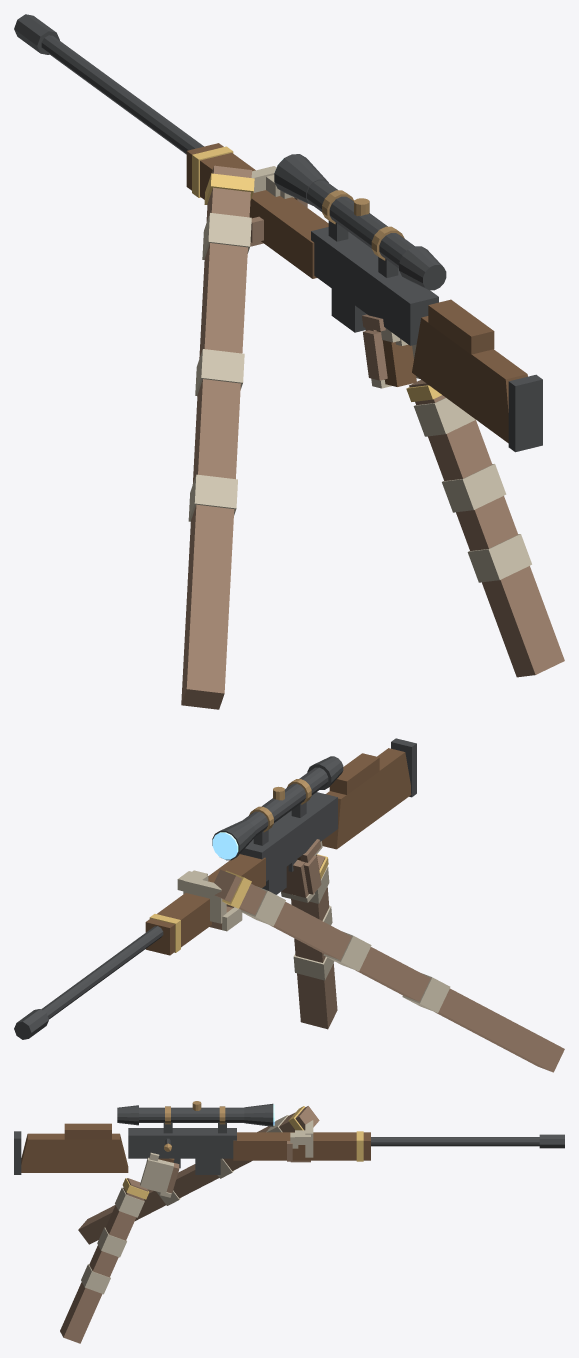
Rendered from sniper.glb.
3 renders of one model, top to bottom at view 1: azimuth 30°, elevation 25°; view 2: azimuth 150°, elevation 25°; view 3: azimuth 270°, elevation 25°, orthographic. The views are drawn at different scales.
Visible parts, largest first — view 1: NL_Forearm, NR_Forearm, N_Receiver, N_Stock, N_Handguard, N_Barrel, N_ScopeTube, N_ButtPad, N_Cheek, NR_Wrap2, NR_Wrap1, N_ScopeFront (+9 smaller); view 2: NL_Forearm, N_Stock, N_Receiver, N_Handguard, NR_Forearm, N_Barrel, N_ScopeTube, N_Cheek, NL_Palm, NL_Wrap1, NL_Wrap2, NL_Wrap0 (+8 smaller); view 3: N_Stock, N_Handguard, N_Receiver, NR_Forearm, NL_Forearm, N_Barrel, N_ScopeTube, NR_Palm, N_Cheek, N_ScopeFront, NR_Wrap1, NR_Wrap0 (+5 smaller).
Part boxes in pixels (<box>): NL_Forearm: <box>181,165,251,709</box>; NR_Forearm: <box>409,379,564,677</box>; N_Receiver: <box>311,227,438,345</box>; N_Stock: <box>412,316,527,443</box>; N_Handguard: <box>186,143,328,278</box>; N_Barrel: <box>41,35,203,154</box>; N_ScopeTube: <box>307,180,414,268</box>; N_ButtPad: <box>508,374,542,452</box>; N_Cheek: <box>428,299,494,354</box>; NR_Wrap2: <box>467,534,531,582</box>; NR_Wrap1: <box>442,464,506,512</box>; N_ScopeFront: <box>274,154,328,205</box>; NL_Forearm: <box>214,869,564,1072</box>; N_Stock: <box>322,748,411,849</box>; N_Receiver: <box>240,792,337,881</box>; N_Handguard: <box>145,854,265,955</box>; NR_Forearm: <box>291,855,337,1029</box>; N_Barrel: <box>41,926,163,1019</box>; N_ScopeTube: <box>242,767,328,837</box>; N_Cheek: <box>329,753,379,794</box>; NL_Palm: <box>183,877,226,923</box>; NL_Wrap1: <box>323,931,371,971</box>; NL_Wrap2: <box>402,973,450,1012</box>; NL_Wrap0: <box>241,886,285,926</box>; N_Stock: <box>21,1133,128,1172</box>; N_Handguard: <box>233,1132,370,1160</box>; N_Receiver: <box>128,1128,236,1158</box>; NR_Forearm: <box>60,1178,147,1343</box>; NL_Forearm: <box>78,1106,319,1244</box>; N_Barrel: <box>371,1137,539,1146</box>; N_ScopeTube: <box>139,1107,244,1122</box>; NR_Palm: <box>140,1157,173,1193</box>; N_Cheek: <box>64,1123,111,1139</box>; N_ScopeFront: <box>244,1103,273,1126</box>; NR_Wrap1: <box>97,1227,126,1257</box>; NR_Wrap0: <box>115,1187,144,1217</box>.
Bounding box in the file's own units: 0.6209 × 0.6769 × 1.52.
